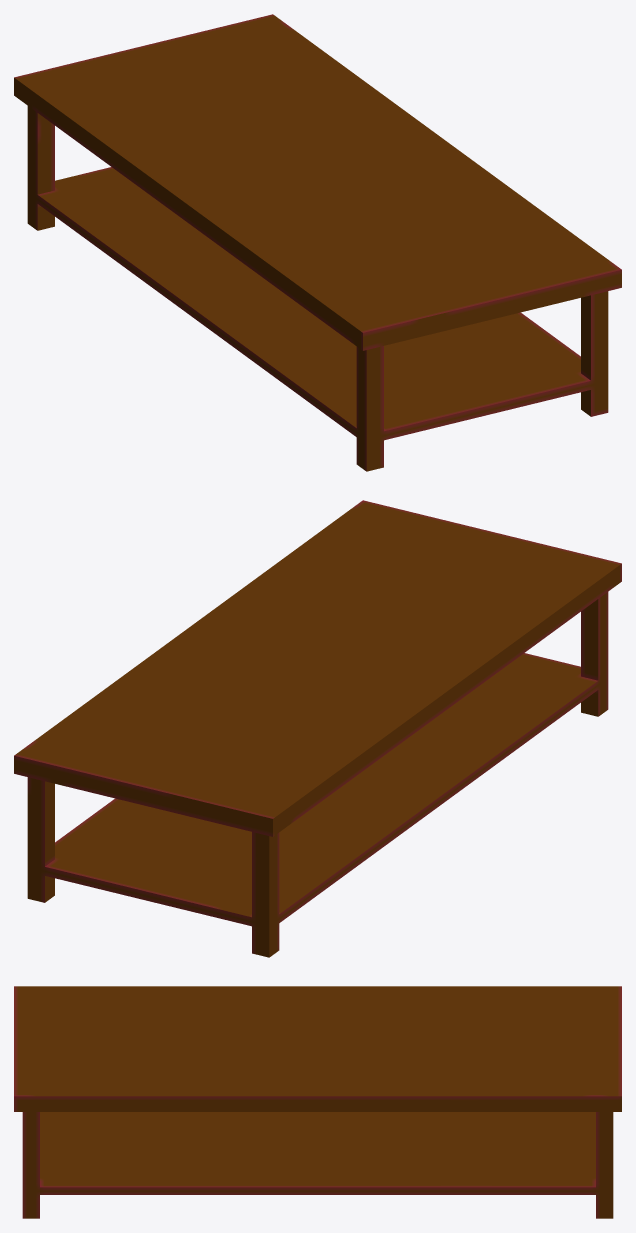
The model's file is small_Table.obj.
The picture shows the model from 3 angles, top to bottom: view 1: azimuth 30°, elevation 25°; view 2: azimuth 150°, elevation 25°; view 3: azimuth 270°, elevation 25°; orthographic projection. The views are drawn at different scales.
Visible parts, largest first — view 1: small_Table; view 2: small_Table; view 3: small_Table.
Boxes of the visible parts, box(x1,y1,x2,y2) form: small_Table: box(14, 14, 621, 471); small_Table: box(14, 500, 621, 957); small_Table: box(14, 986, 621, 1218).
Size of the model in its own units: 3 by 1.6 by 7.
Materials: 1 (1 with a texture image).
